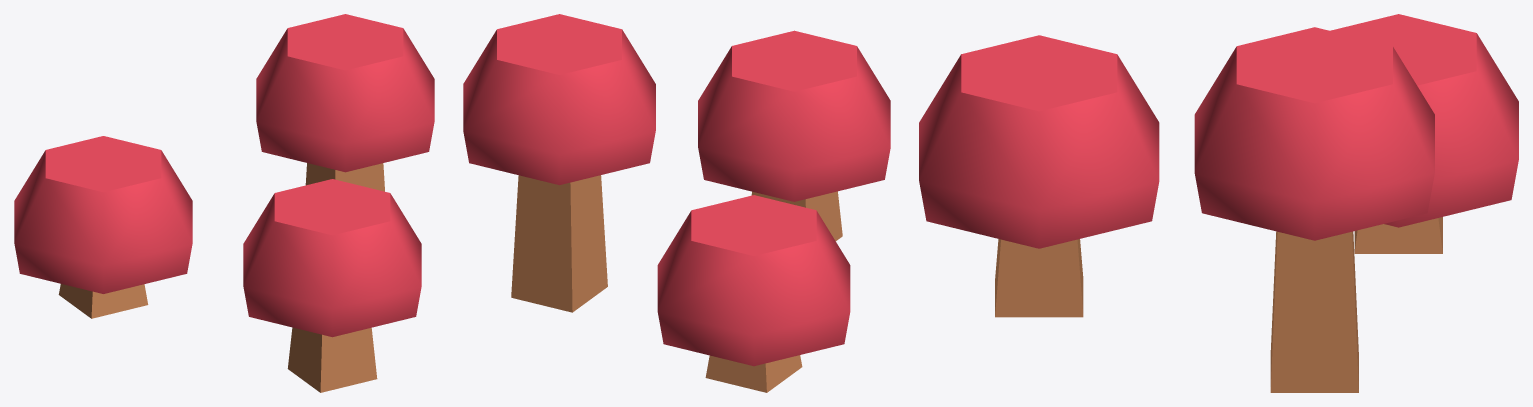
The model's file is mushrooms.fbx.
3 views of the same model, side by side, from view 1: azimuth 30°, elevation 25°; view 2: azimuth 150°, elevation 25°; view 3: azimuth 270°, elevation 25° (orthographic). The views are drawn at different scales.
Visible parts, largest first — view 1: mushrooms; view 2: mushrooms; view 3: mushrooms.
Boxes of the visible parts, bbox=[...] form: mushrooms: bbox=[14, 14, 434, 392]; mushrooms: bbox=[463, 14, 890, 392]; mushrooms: bbox=[919, 14, 1518, 392].
Bounding box in the file's own units: 5.24 × 2.95 × 5.19.
